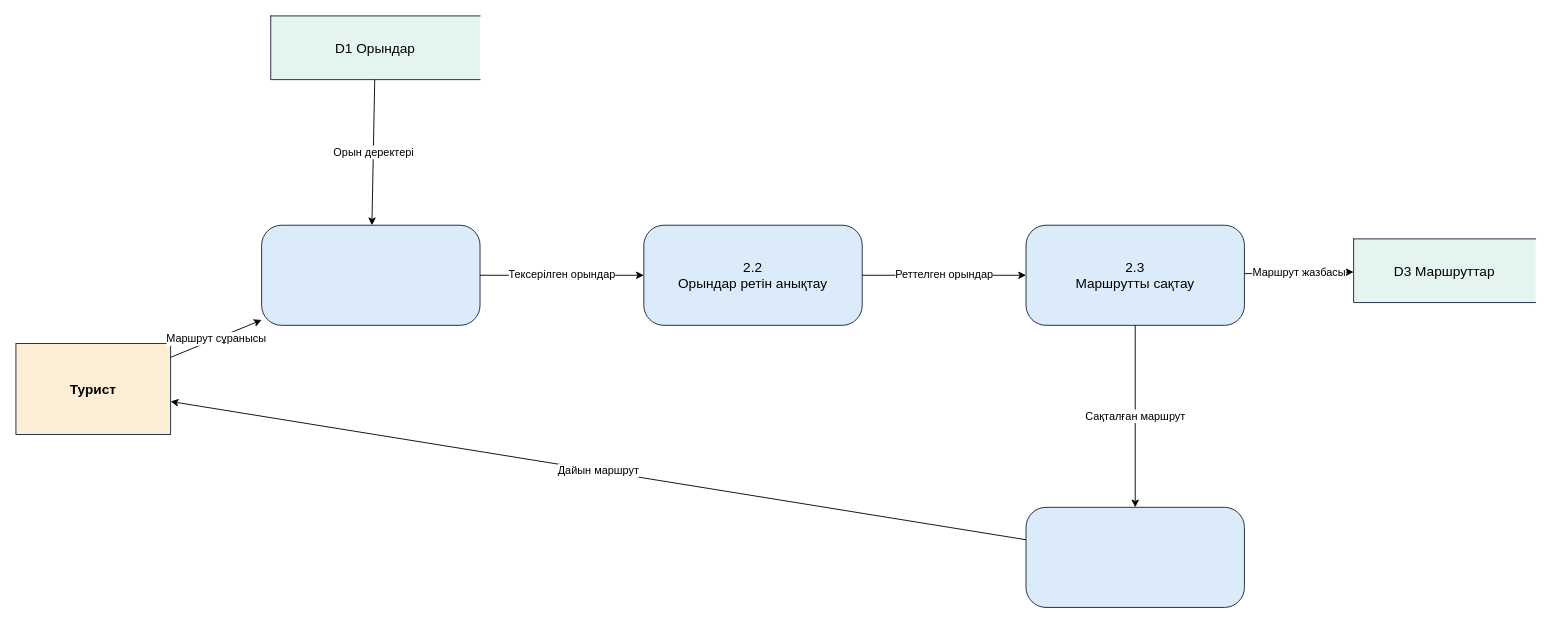
Image size: 1552x623. Some labels were removed from this diagram. The centre of each missing label's shape, as x and y in pixels:
"2.1 Таңдалған орындарды тексеру" belongs at pixel 370 274.
"2.4 Маршрутты көрсету" belongs at pixel 1134 556.
